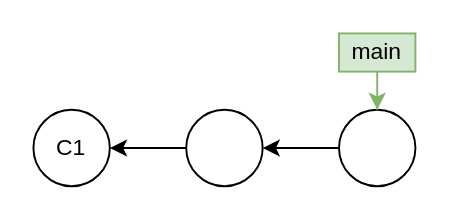
This 449x220 diagram has some shape labels left out. Each missing label, with the centre of its shape:
"C2" goes at point (223, 147).
"C3" goes at point (376, 147).
